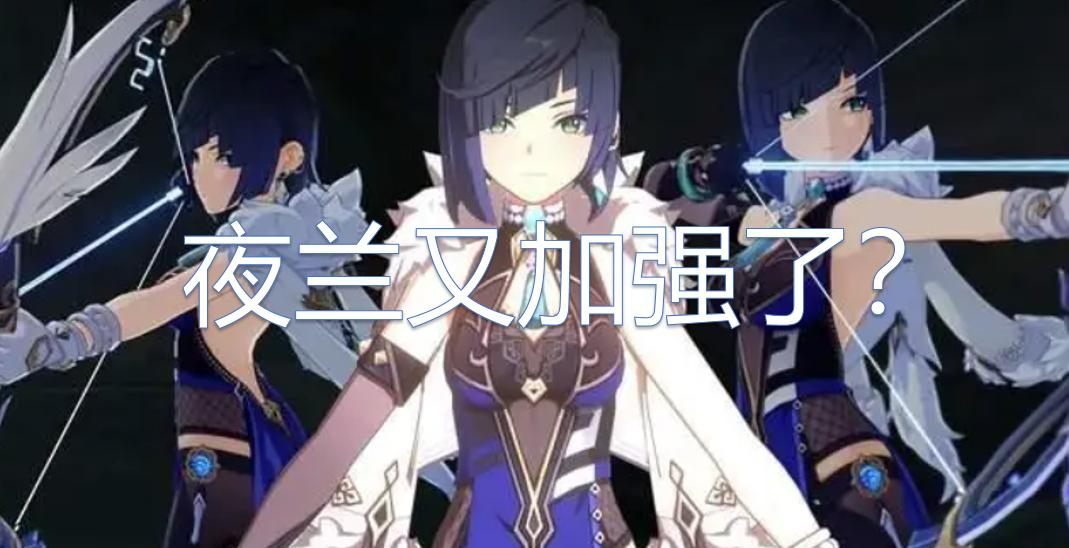夜兰: (241, 1, 813, 548), (650, 12, 1069, 548), (2, 10, 311, 548)
